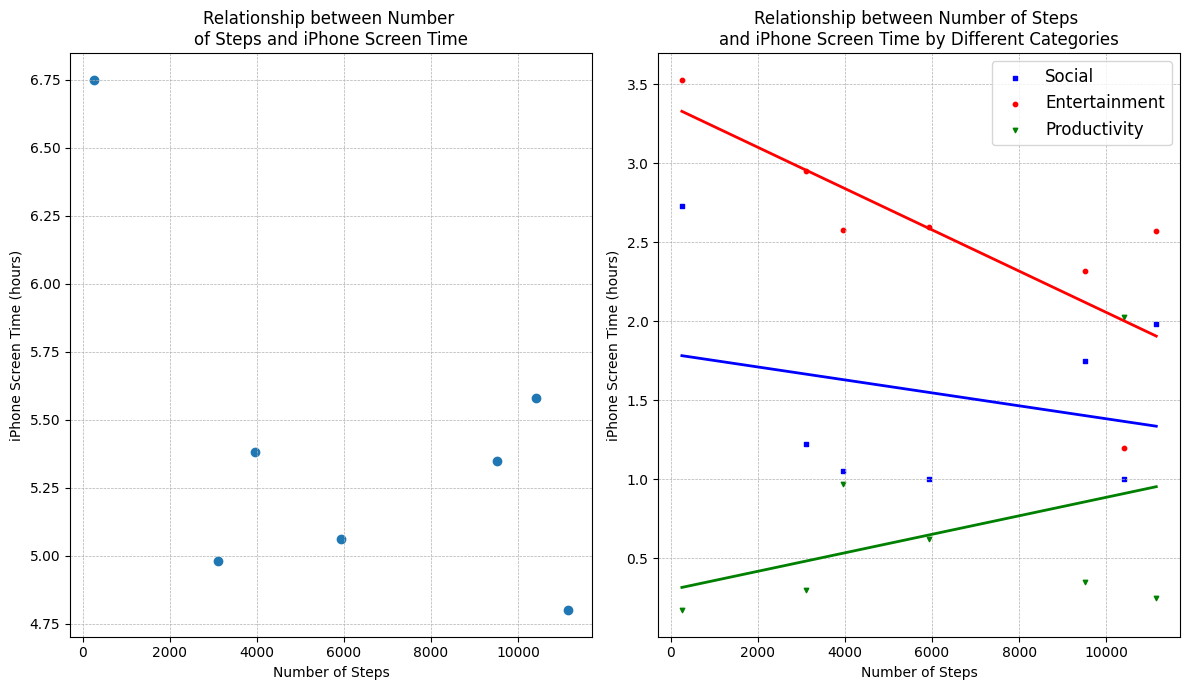

The dashboard page shown, as its layout file describes it:
{"tool":"tableau","page":{"name":"Dashboard 1","canvas":[1000,800],"ordinal":0},"visuals":[{"type":"worksheet","title":"Sheet 3","mark":"Automatic","rows":["fall","Meteorite_Landings_20231028.csv_1F803E414B8C4B4B9D0B80996B7E"],"cols":["year"],"box":[8,8,984,441]},{"type":"worksheet","title":"Sheet 1","mark":"Automatic","rows":["name"],"cols":["mass (g)"],"box":[8,449,492,343]},{"type":"worksheet","title":"Sheet 2","mark":"Automatic","rows":["recclass"],"cols":["recclass"],"box":[500,449,492,343]}]}

Visuals, with their boxes on the page's 1000x800 design canvas (x1, y1, x2, y2). These are canvas units, not pixel positions in the 1190x690 screenshot, which may show the page scaled, cropped or inside an application window:
"Sheet 3" worksheet: {"x1": 8, "y1": 8, "x2": 992, "y2": 449}
"Sheet 1" worksheet: {"x1": 8, "y1": 449, "x2": 500, "y2": 792}
"Sheet 2" worksheet: {"x1": 500, "y1": 449, "x2": 992, "y2": 792}
